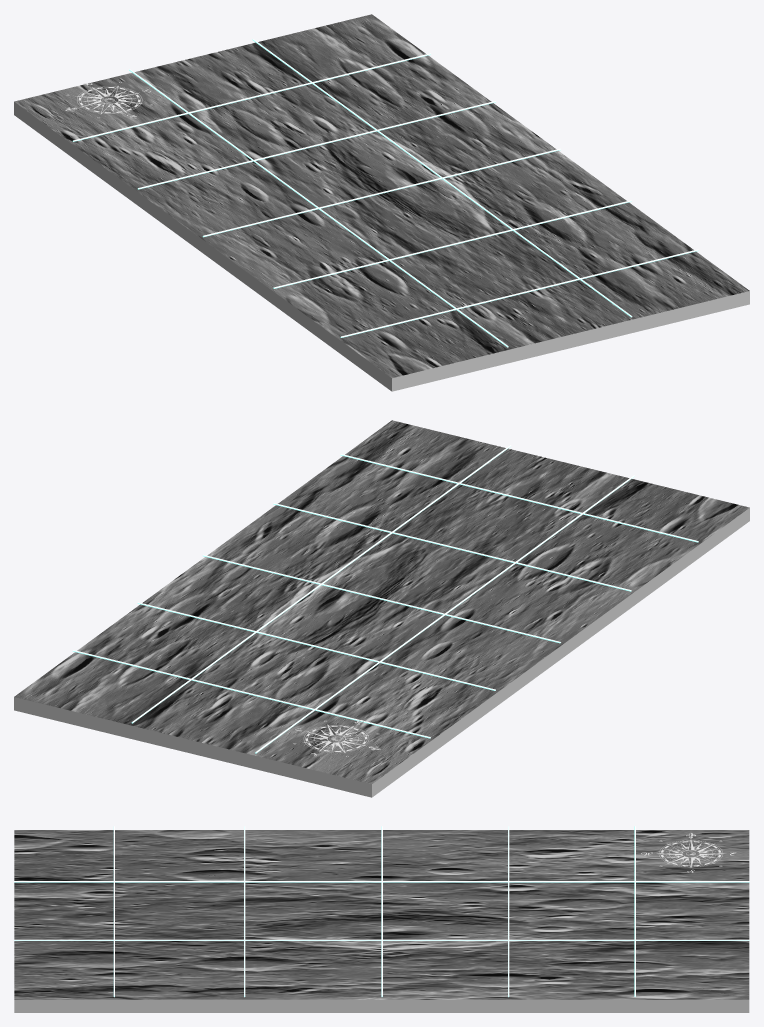
The model's file is map.gltf.
The picture shows the model from 3 angles, top to bottom: view 1: azimuth 30°, elevation 25°; view 2: azimuth 150°, elevation 25°; view 3: azimuth 270°, elevation 25°; orthographic projection. The views are drawn at different scales.
Visible parts, largest first — view 1: Cube; view 2: Cube; view 3: Cube.
Part boxes in pixels (left/top/right/bottom): Cube: left=14, top=14, right=749, bottom=391; Cube: left=14, top=420, right=749, bottom=797; Cube: left=14, top=826, right=749, bottom=1012.
Bounding box in the file's own units: 3.18 × 0.1774 × 5.82.
4 materials, 2 textured.
